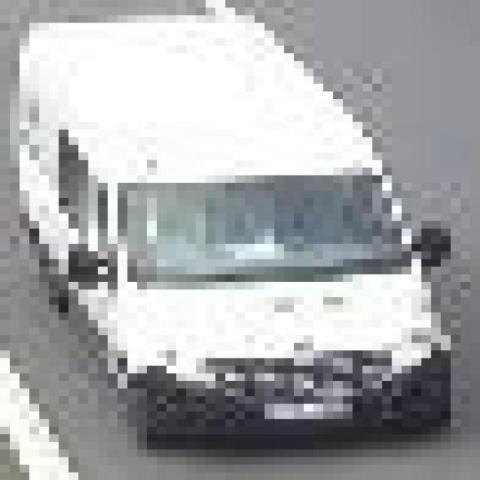van: (10, 16, 451, 450)
